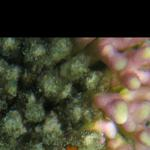dead: (3, 39, 146, 147)
